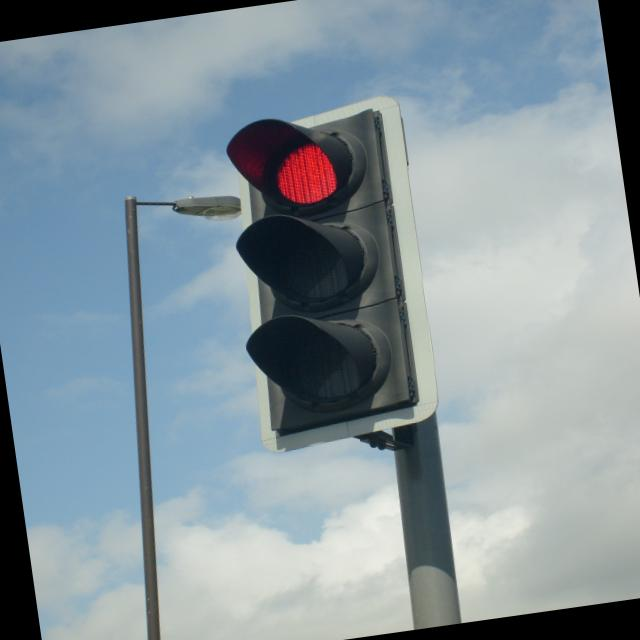red-lights: (268, 137, 344, 207)
